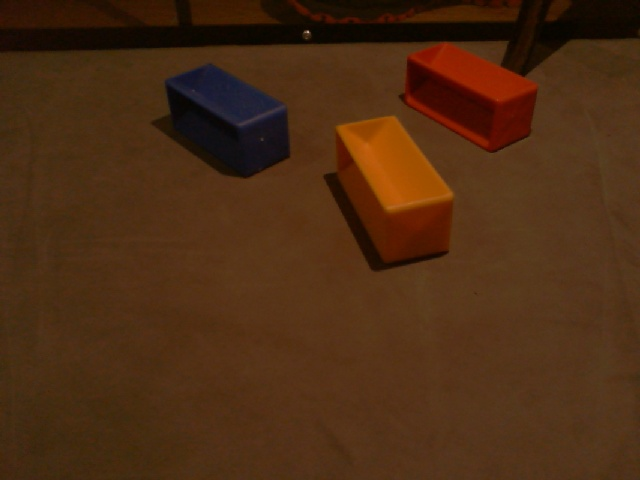BlueSample: (160, 60, 292, 179)
RedSample: (400, 40, 541, 156)
YellowSample: (334, 113, 457, 265)
